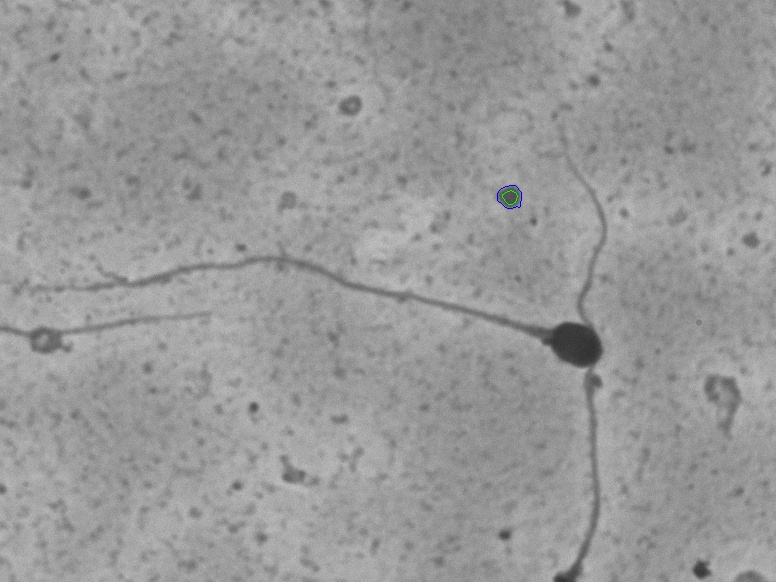Abnormal: (60, 216, 607, 417)
